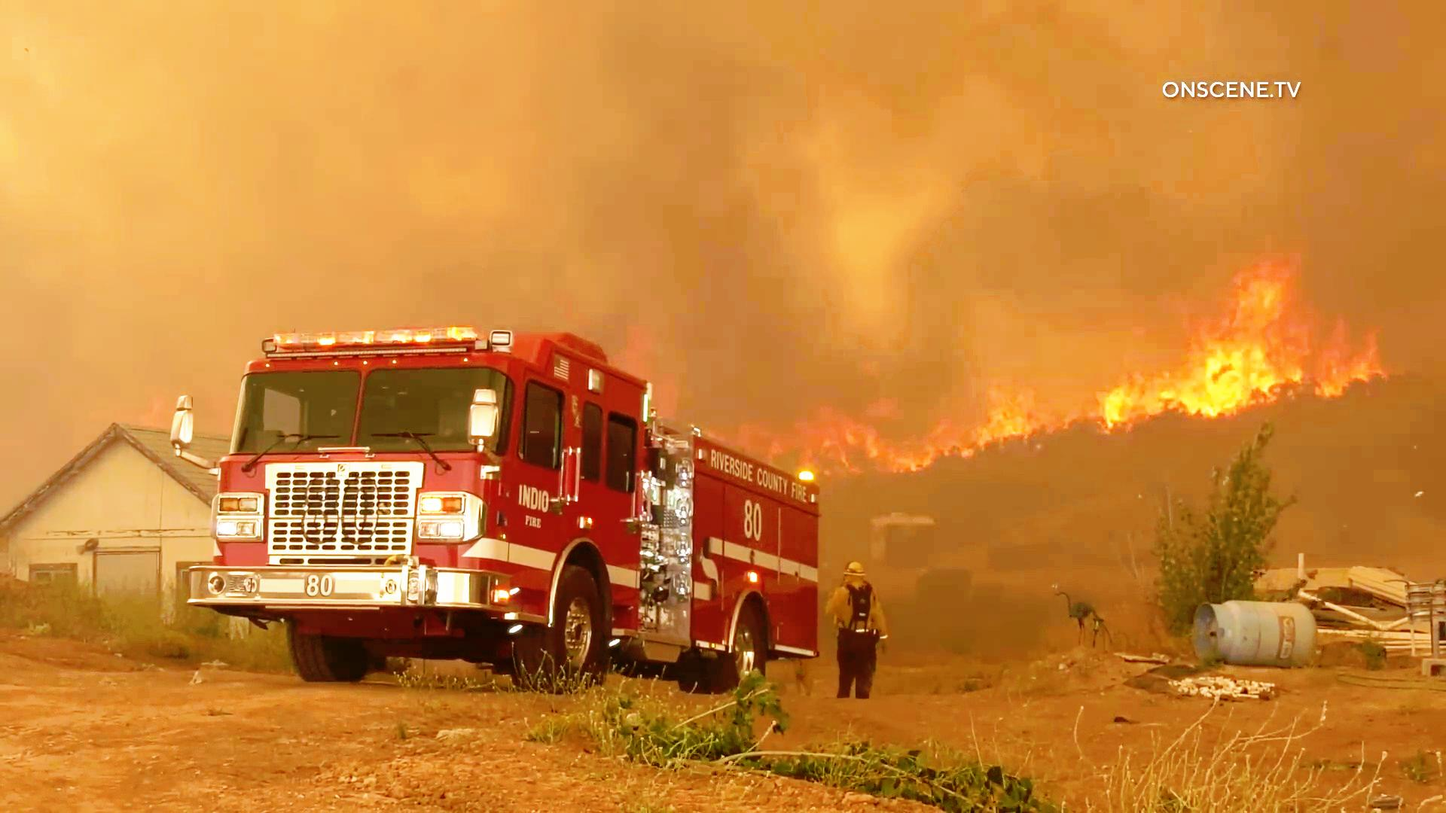fire: (1013, 286, 1245, 458), (1213, 260, 1412, 410), (766, 379, 938, 466)
smoke: (539, 4, 895, 253), (968, 137, 1225, 270)
